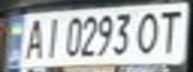0: (63, 12, 84, 59)
2: (78, 11, 100, 58)
3: (112, 10, 136, 56)
9: (97, 11, 118, 57)
A: (21, 15, 48, 61)
I: (39, 13, 63, 60)
O: (133, 8, 163, 55)
T: (154, 6, 187, 53)
